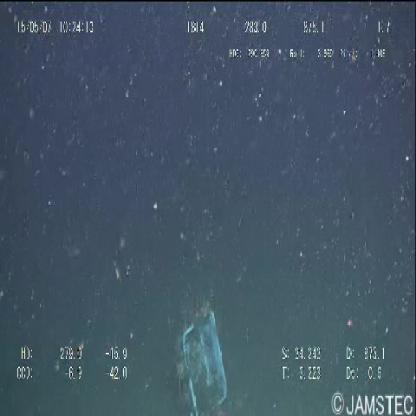Rác: (175, 312, 228, 415)
